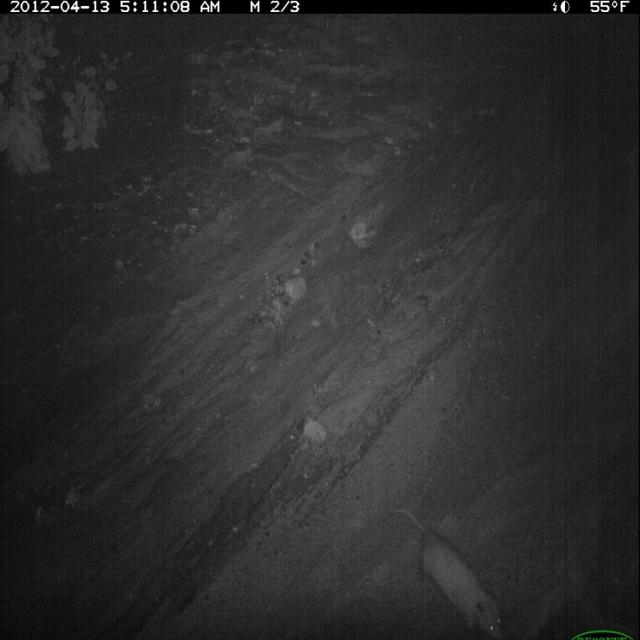opossum: (387, 503, 507, 640)
